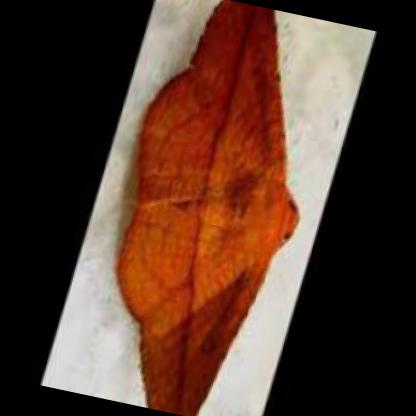Leaf Webber: (118, 0, 305, 416)
